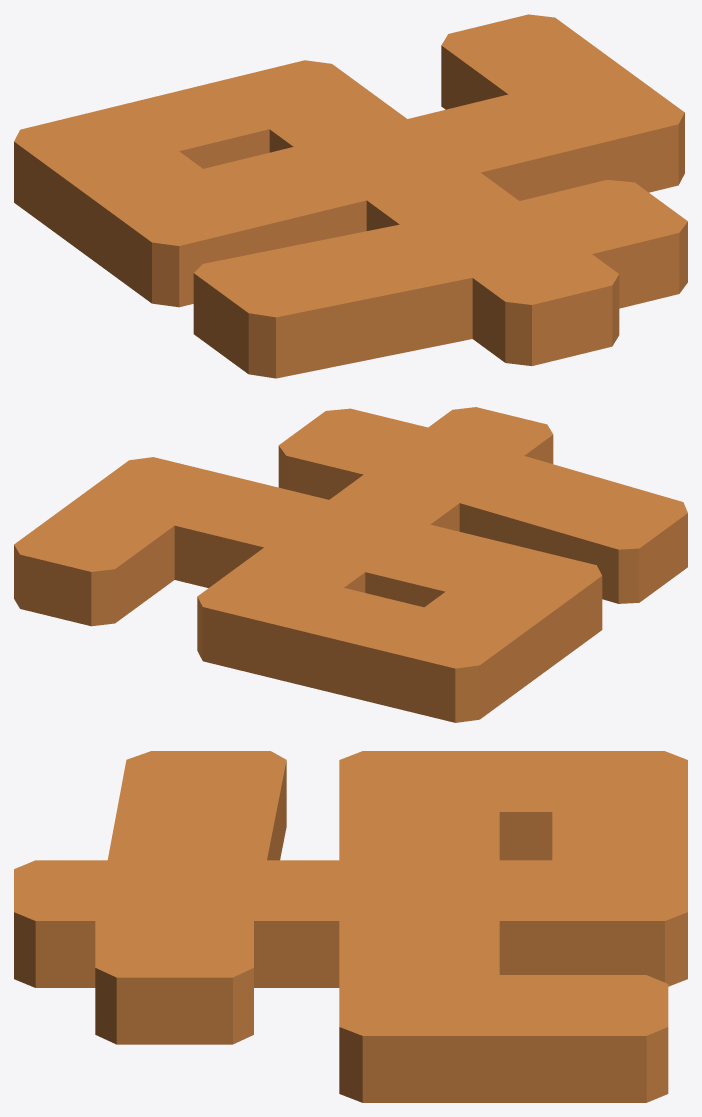
File: Japanese_3D_01_み.FBX
3 renders of one model, top to bottom at view 1: azimuth 30°, elevation 25°; view 2: azimuth 150°, elevation 25°; view 3: azimuth 270°, elevation 25°, orthographic. The views are drawn at different scales.
Parts seen in each view (by area): view 1: Japanese_3D_01_み; view 2: Japanese_3D_01_み; view 3: Japanese_3D_01_み.
Part boxes in pixels (left/top/right/bottom): Japanese_3D_01_み: left=14, top=14, right=687, bottom=378; Japanese_3D_01_み: left=14, top=407, right=687, bottom=722; Japanese_3D_01_み: left=14, top=751, right=687, bottom=1102.
Size of the model in its own units: 68.37 by 7.5 by 68.37.
